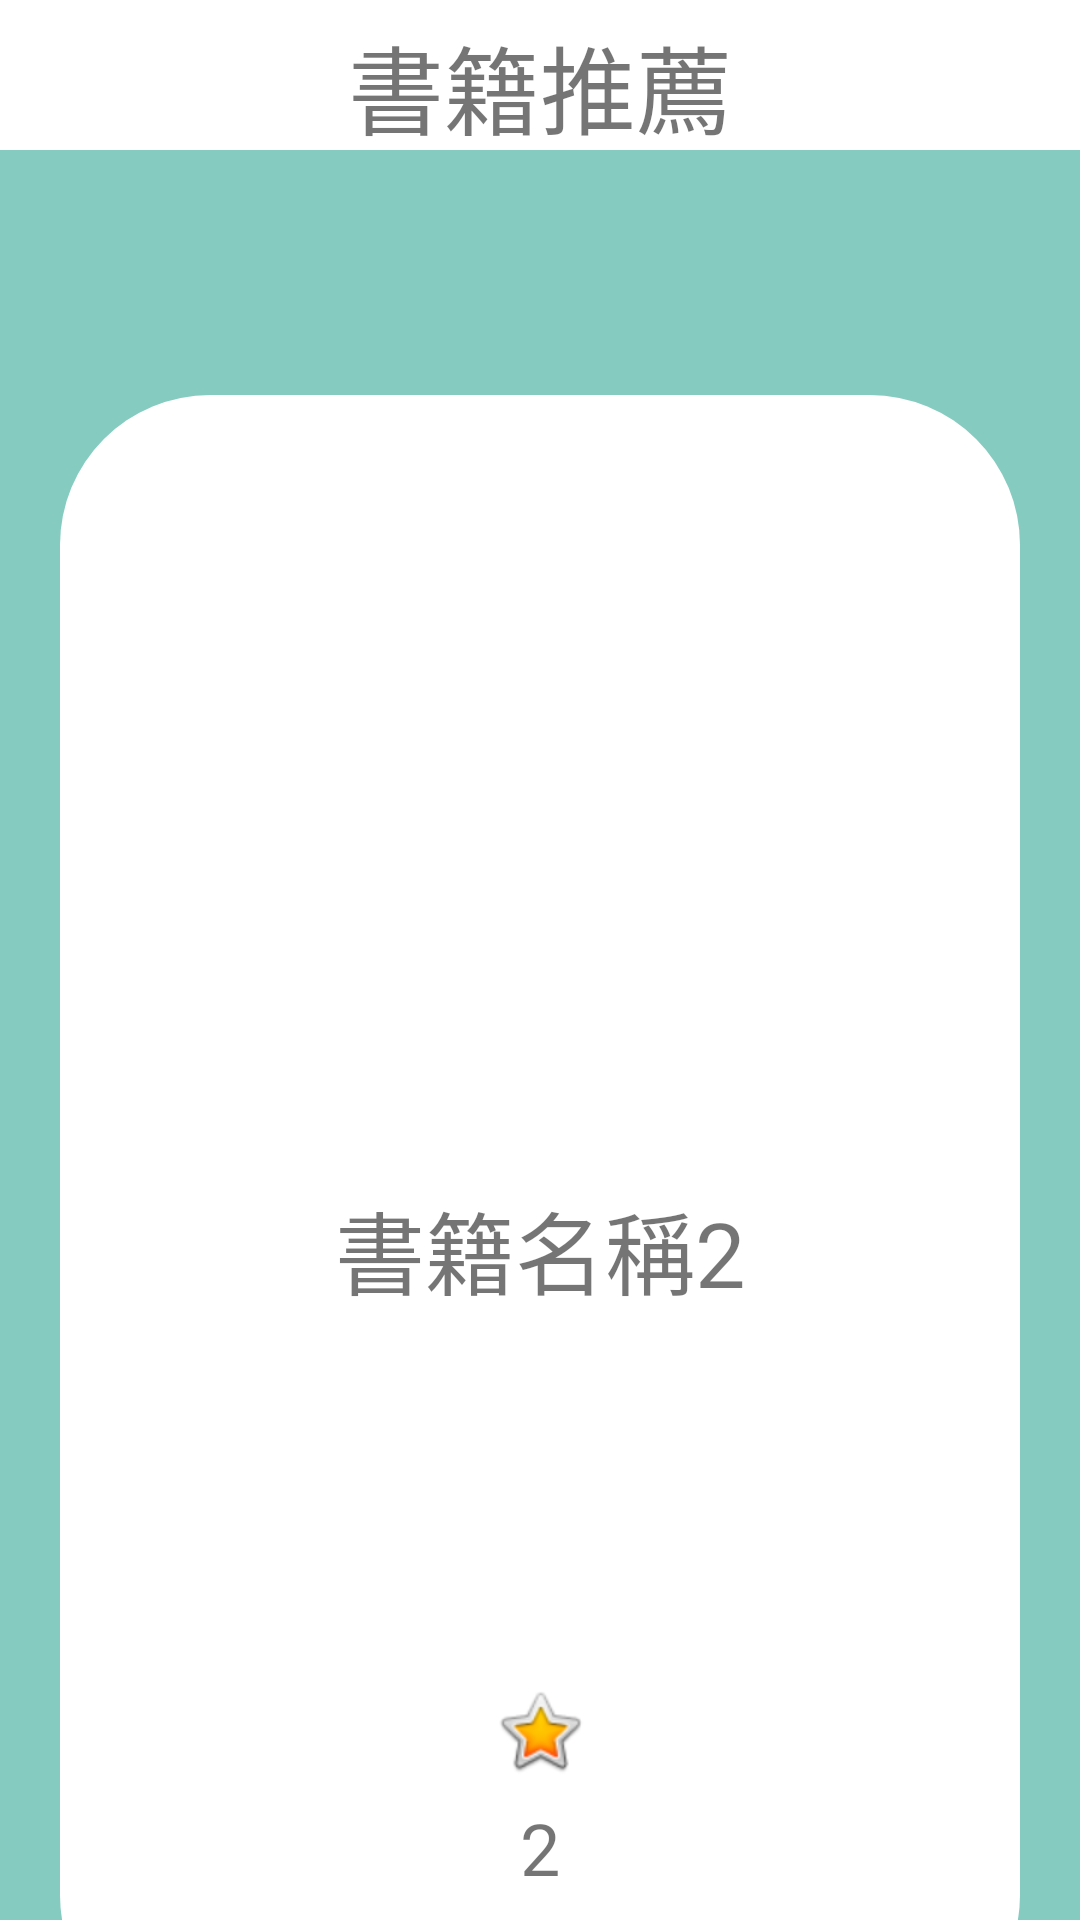

Locate icon controls on the screen. Image size 1080x1920, boxes as (x1, y1, x2, y2).
star on: (501, 1693, 581, 1771)
